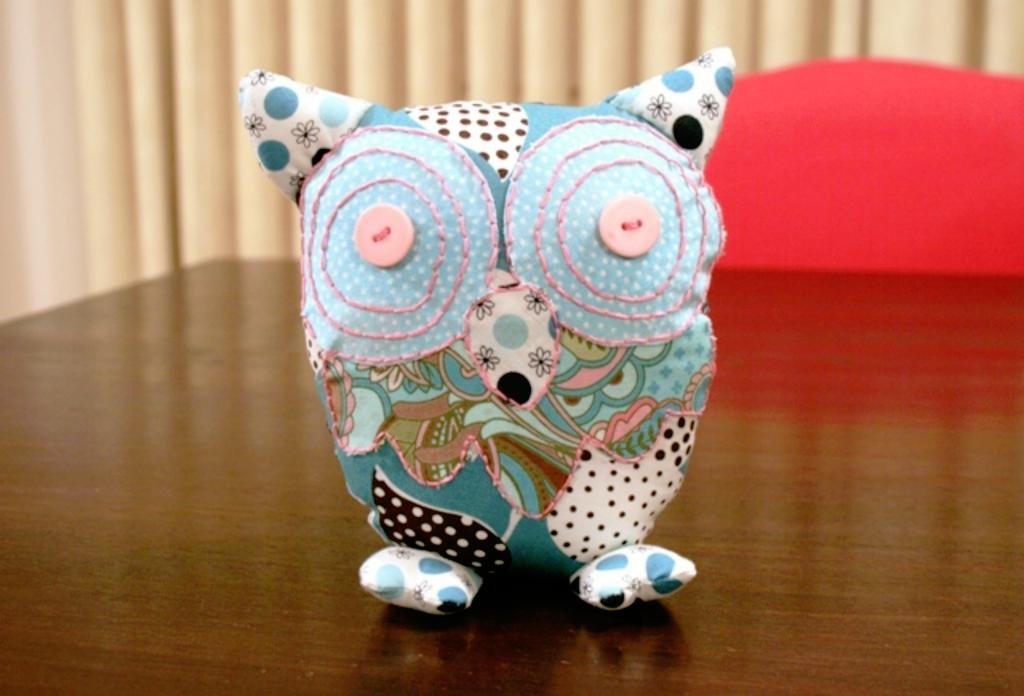Owl: (236, 51, 730, 619)
